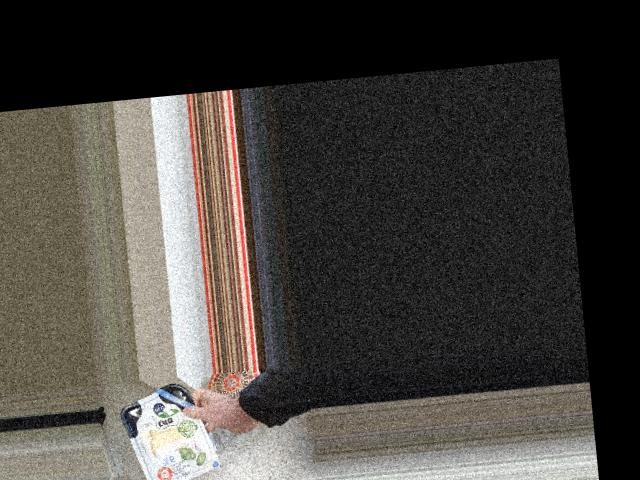cheese: (131, 390, 206, 480)
